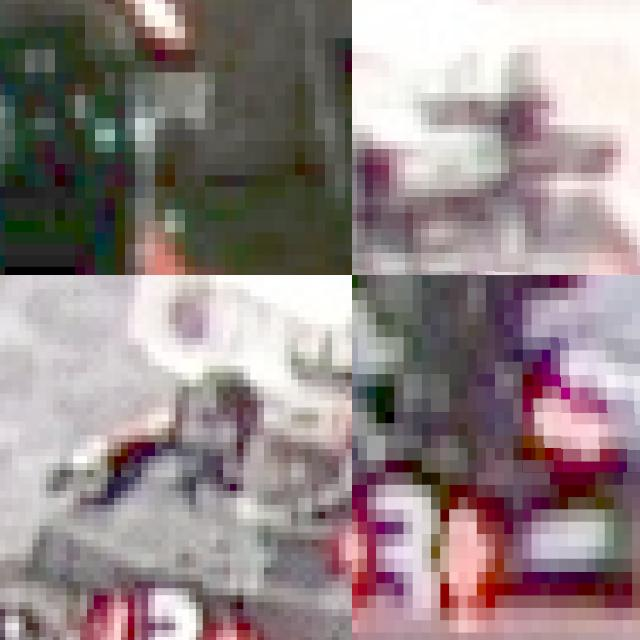R3: (352, 472, 513, 620), (522, 324, 640, 472), (100, 581, 243, 640)
